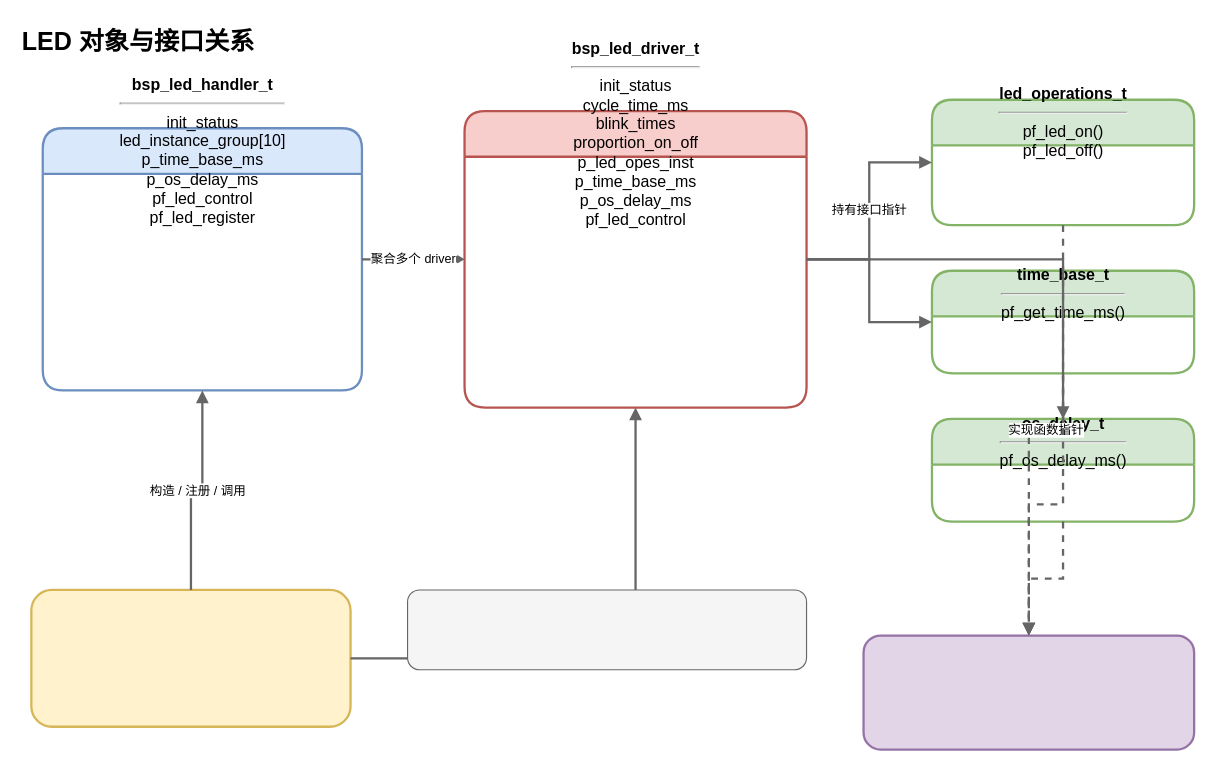
This 1214x770 diagram has some shape labels left out. The centre of each missing label's shape, as x and y in pixels:
"平台实现 GPIO_ON / GPIO_OFF HAL_GetTick vTaskDelay 或 DelayMs" belongs at point (1028, 692).
"应用代码 创建 handler 创建多个 driver 注册后按需控制" belongs at point (190, 657).
"这个视角适合讲清楚: C 里用结构体 + 函数指针，把对象、接口、平台实现拆开。" belongs at point (606, 629).
